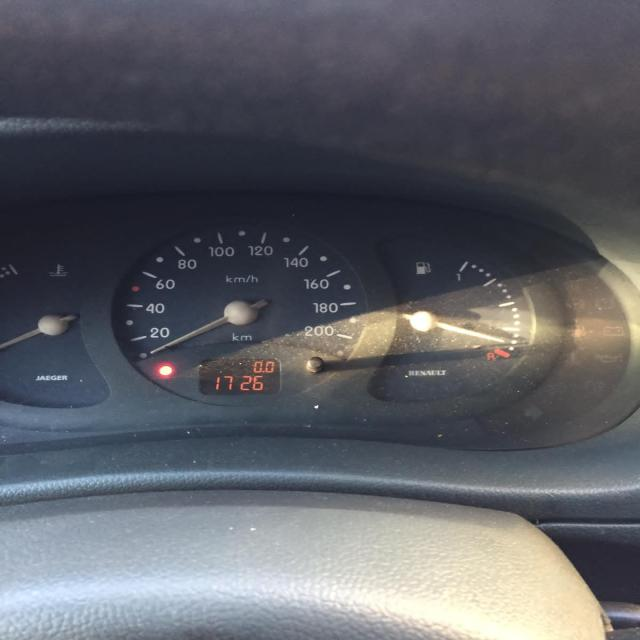odometer: (196, 357, 282, 396)
